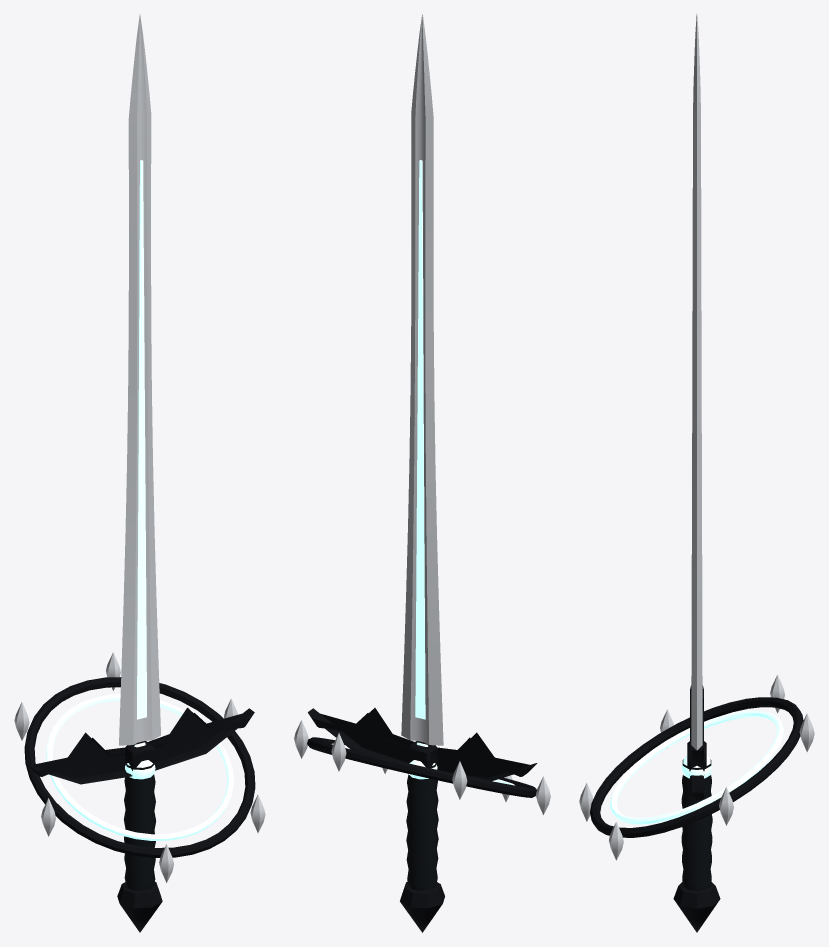
Rendered from esc_w_shadowblade_sword_1.glb.
The picture shows the model from 3 angles, left to right: view 1: azimuth 30°, elevation 25°; view 2: azimuth 150°, elevation 25°; view 3: azimuth 270°, elevation 25°; orthographic projection.
Visible parts, largest first — view 1: esc_w_shadowblade_sword_1; view 2: esc_w_shadowblade_sword_1; view 3: esc_w_shadowblade_sword_1.
Part boxes in pixels (x1,y1,x2,y2): esc_w_shadowblade_sword_1: [14, 14, 265, 932]; esc_w_shadowblade_sword_1: [294, 14, 550, 932]; esc_w_shadowblade_sword_1: [579, 14, 814, 932].
Bounding box in the file's own units: 0.2987 × 1.16 × 0.2702.
